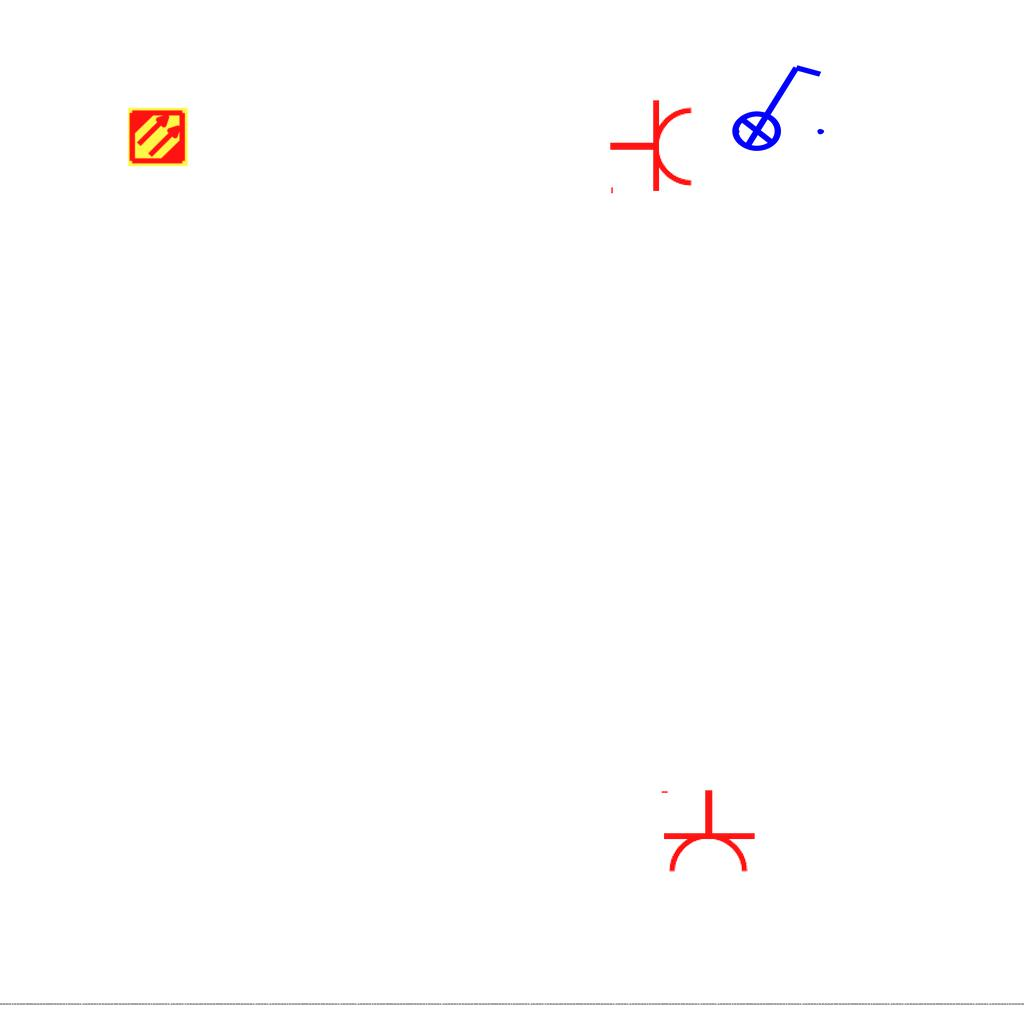ASR_Ansaugrauchmelder: (127, 106, 189, 168)
Ausschalter_beleuchtet: (718, 57, 830, 153)
Schukosteckdose_einfach: (657, 788, 757, 875), (608, 98, 695, 198)
